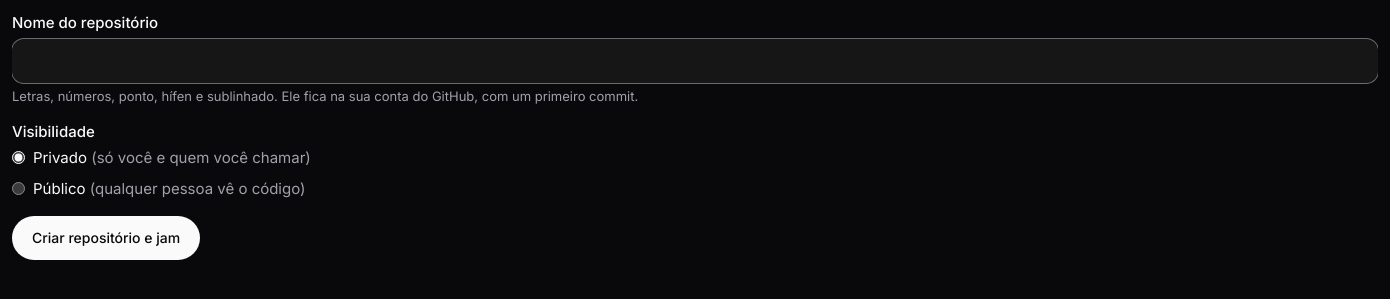
Test: criar repositório (Story 2.2) › nome que já existe aparece no próprio campo (AC 4)
In the field labelled "Nome do repositório": {"x": 695, "y": 60} left=12, top=38, right=1378, bottom=82, type "projeto"
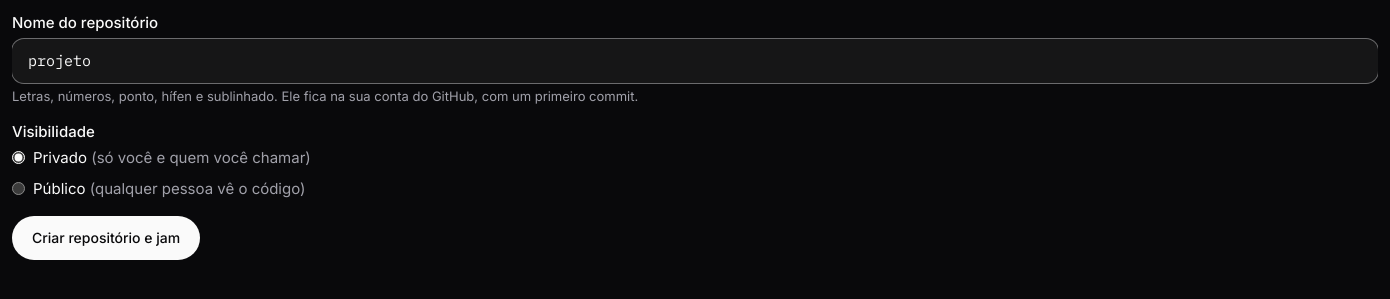
Click the button "Criar repositório e jam": {"x": 106, "y": 238} left=12, top=216, right=200, bottom=260
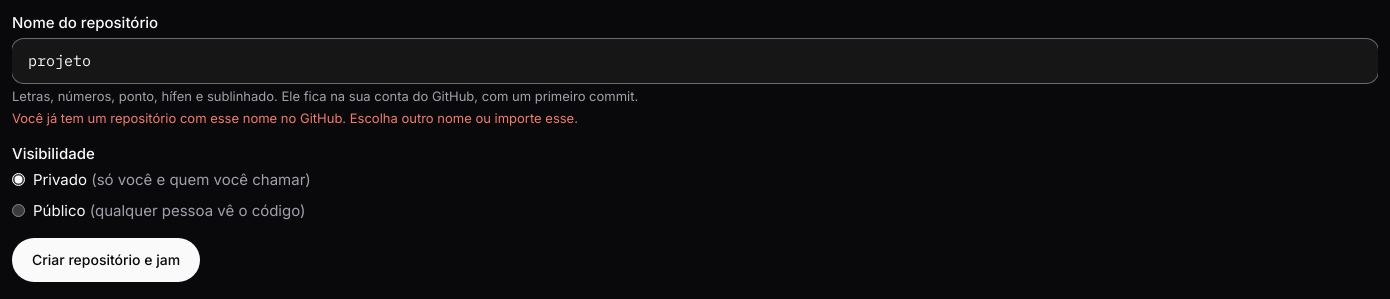
Now the message shows "Você já tem um repositório com esse nome", box left=12, top=110, right=578, bottom=126
